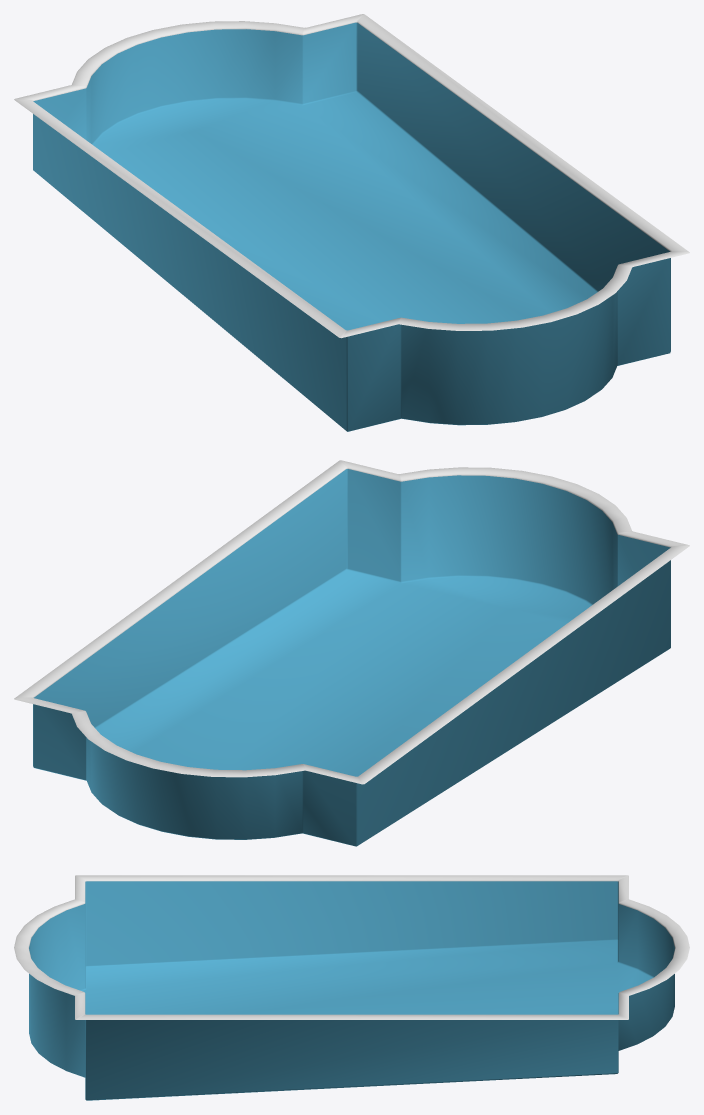
File: Pool_Ramp.fbx
The picture shows the model from 3 angles, top to bottom: view 1: azimuth 30°, elevation 25°; view 2: azimuth 150°, elevation 25°; view 3: azimuth 270°, elevation 25°; orthographic projection. The views are drawn at different scales.
Parts seen in each view (by area): view 1: Pool_ramp; view 2: Pool_ramp; view 3: Pool_ramp.
Boxes of the visible parts, x1,y1,x2,y2 form: Pool_ramp: (14, 14, 689, 431); Pool_ramp: (14, 460, 689, 846); Pool_ramp: (14, 875, 689, 1100).
Bounding box in the file's own units: 648 × 181 × 1277.
